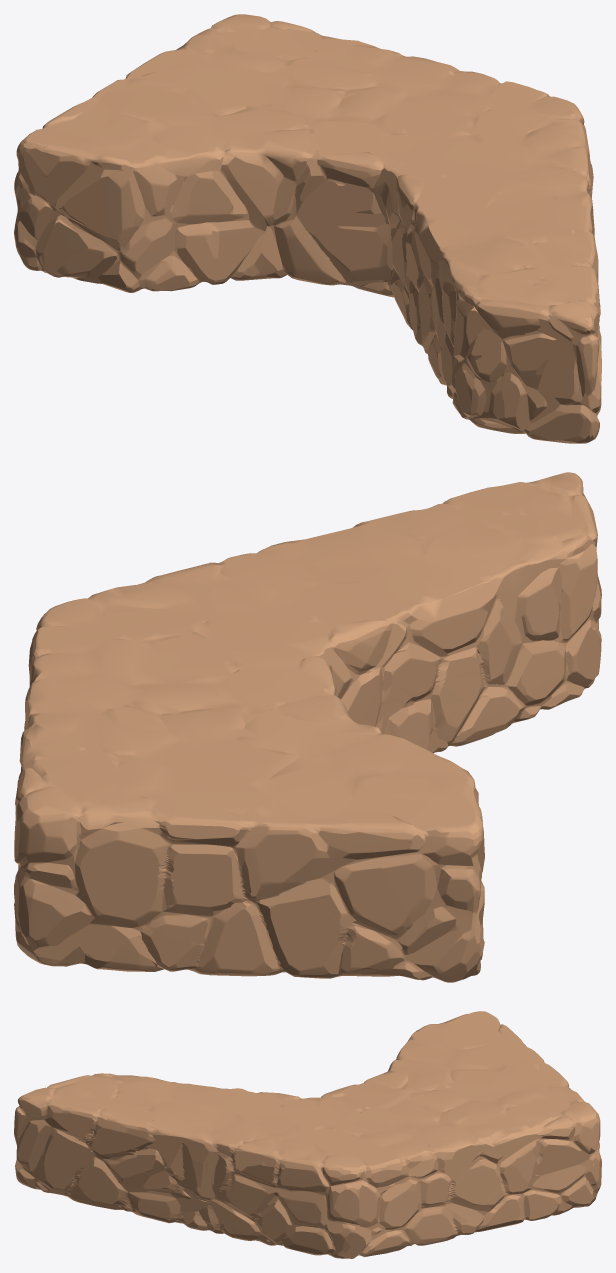
3 renders of one model, top to bottom at view 1: azimuth 30°, elevation 25°; view 2: azimuth 150°, elevation 25°; view 3: azimuth 270°, elevation 25°, orthographic. The views are drawn at different scales.
Parts seen in each view (by area): view 1: Mesh_18_LOD0; view 2: Mesh_18_LOD0; view 3: Mesh_18_LOD0.
Boxes of the visible parts, x1,y1,x2,y2 form: Mesh_18_LOD0: (14, 14, 601, 443); Mesh_18_LOD0: (14, 472, 601, 982); Mesh_18_LOD0: (14, 1011, 601, 1258).
Size of what is drawn, in the model's own units: 7624 by 2153 by 11685.
